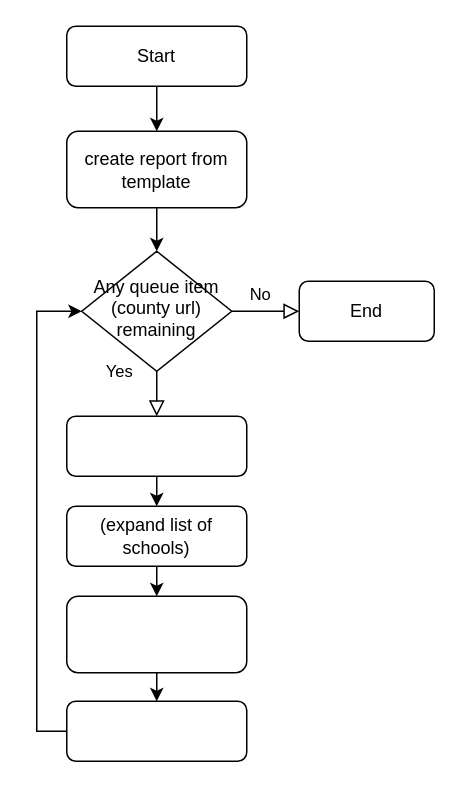
The diagram is 461 pixels wide and 788 high, and some of its shapes have lost their labels. The shapes that lost their labels are listed below. From the top down, each one's centre as x and y in pixels, then its label:
(x=156, y=445): open county url
(x=156, y=634): Output table of schools information
(x=156, y=730): add table to output report
